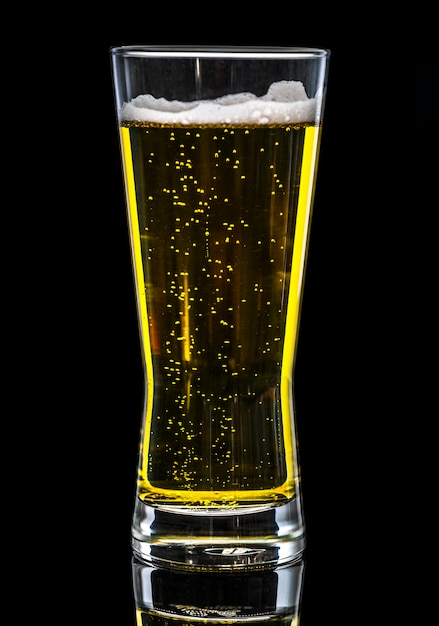alcohol: (94, 42, 349, 571)
